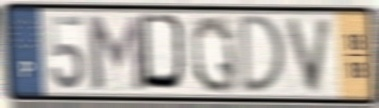5: (47, 14, 87, 92)
D: (137, 12, 192, 96), (238, 13, 288, 97)
M: (84, 12, 147, 94)
Q: (189, 13, 241, 96)
V: (284, 15, 337, 96)
